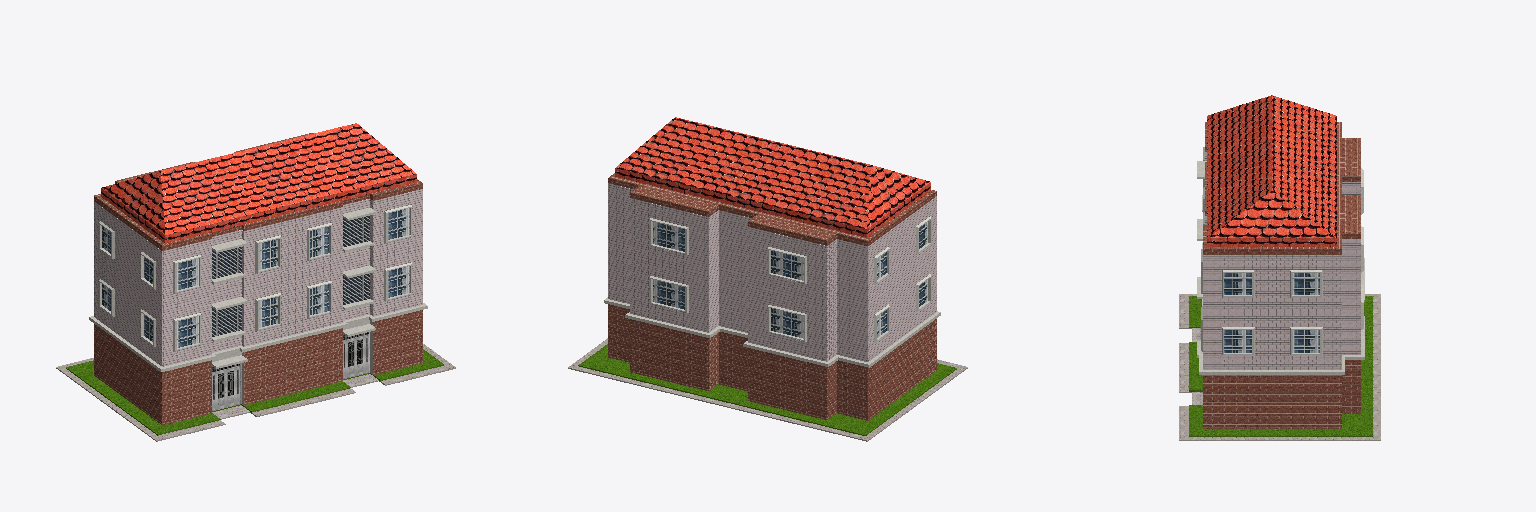
3 renders of one model, left to right at view 1: azimuth 30°, elevation 25°; view 2: azimuth 150°, elevation 25°; view 3: azimuth 270°, elevation 25°, orthographic.
Visible parts, largest first — view 1: roof, bottom_floor, floor3, floor2, grass1, bottom_floor001; view 2: roof, bottom_floor, floor3, floor2, grass1, bottom_floor001; view 3: roof, floor3, bottom_floor, floor2, grass1, bottom_floor001.
Part boxes in pixels (bbox=[...]): roof: bbox=[101, 123, 416, 243]; bottom_floor: bbox=[89, 303, 427, 425]; floor3: bbox=[94, 189, 422, 308]; floor2: bbox=[94, 247, 422, 366]; grass1: bbox=[56, 344, 455, 441]; bottom_floor001: bbox=[94, 133, 422, 250]; roof: bbox=[615, 117, 930, 237]; bottom_floor: bbox=[604, 297, 940, 420]; floor3: bbox=[608, 183, 936, 304]; floor2: bbox=[608, 241, 936, 361]; grass1: bbox=[568, 338, 967, 441]; bottom_floor001: bbox=[608, 173, 936, 246]; roof: bbox=[1207, 95, 1336, 246]; floor3: bbox=[1197, 147, 1363, 312]; bottom_floor: bbox=[1197, 243, 1364, 428]; floor2: bbox=[1197, 219, 1363, 369]; grass1: bbox=[1179, 294, 1380, 440]; bottom_floor001: bbox=[1203, 122, 1360, 254].
Bounding box in the file's own units: 287 × 206 × 167.
Materials: 9 (9 with a texture image).